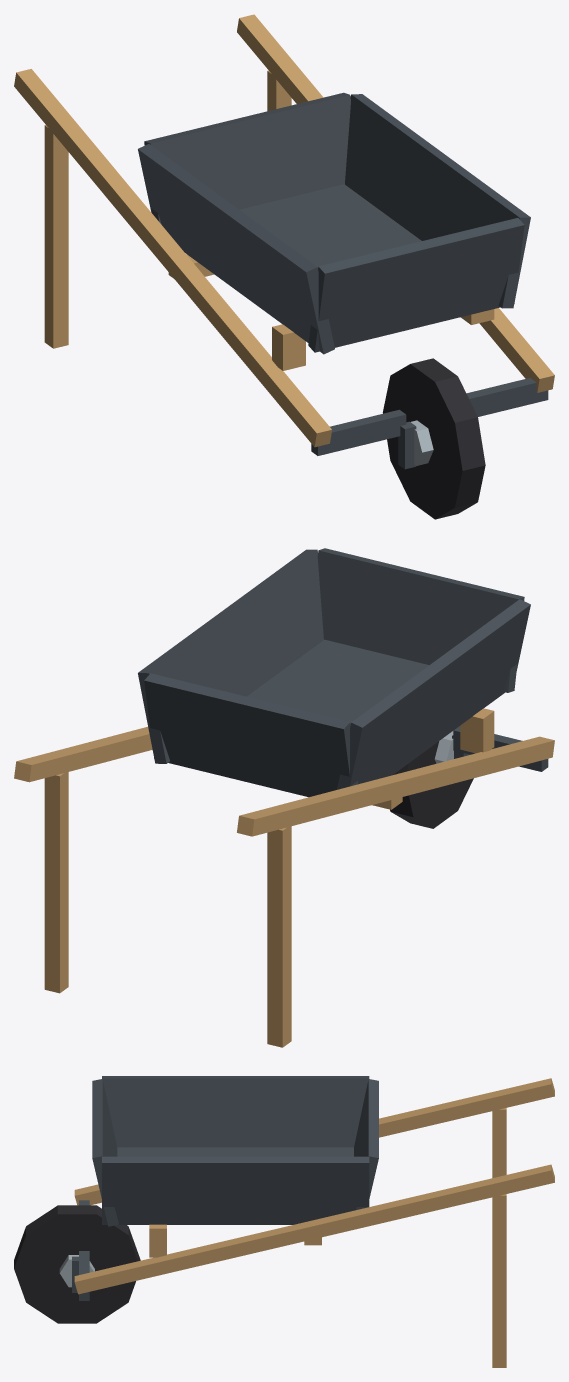
The model's file is GT_Wheelbarrow_01.glb.
3 renders of one model, top to bottom at view 1: azimuth 30°, elevation 25°; view 2: azimuth 150°, elevation 25°; view 3: azimuth 270°, elevation 25°, orthographic. The views are drawn at different scales.
Parts seen in each view (by area): view 1: GT_Wheelbarrow_01; view 2: GT_Wheelbarrow_01; view 3: GT_Wheelbarrow_01.
Boxes of the visible parts, bbox=[...] form: GT_Wheelbarrow_01: bbox=[14, 14, 554, 519]; GT_Wheelbarrow_01: bbox=[14, 548, 554, 1047]; GT_Wheelbarrow_01: bbox=[14, 1076, 554, 1367].
Size of the model in its own units: 0.62 by 0.6407 by 1.54.
1 material, 1 textured.
